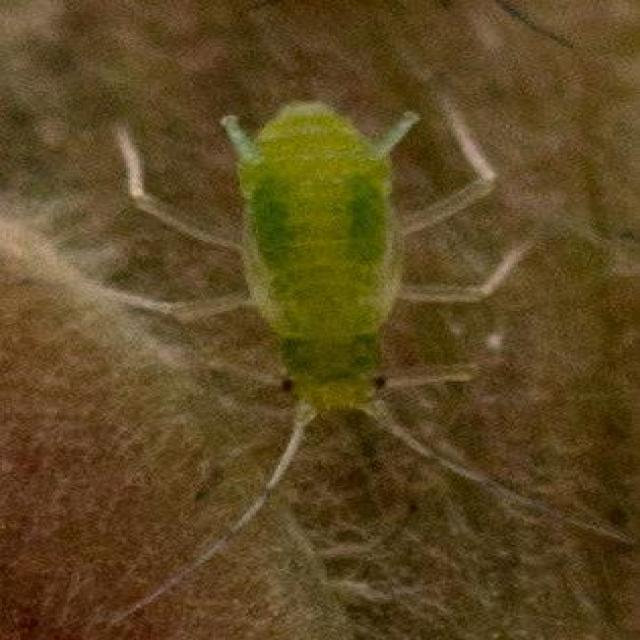Aphids: (146, 100, 510, 525)
